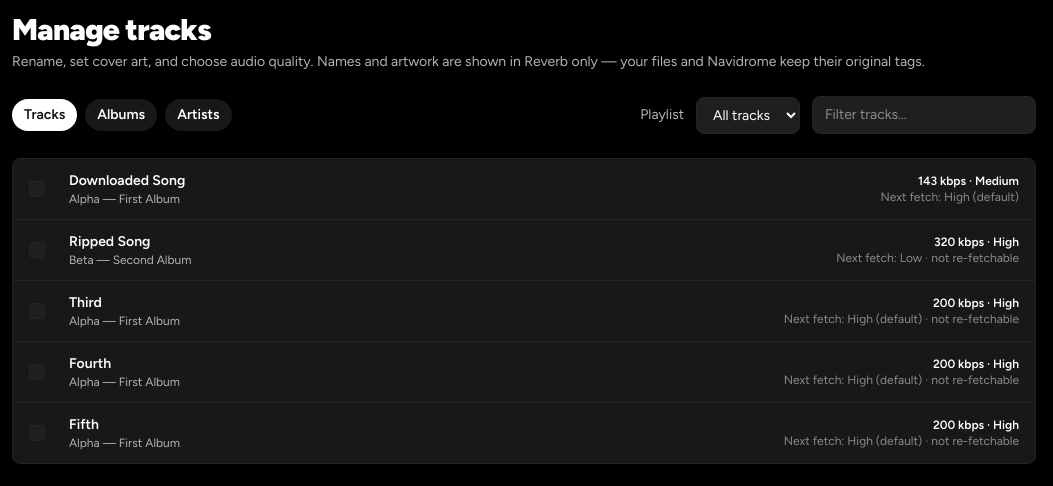
Test: ManageTracks › selection gestures › shift-clicking uses the order on screen, not the underlying list
In the search field labelled "Filter tracks": (924, 115) [812, 96, 1036, 134], type "f"
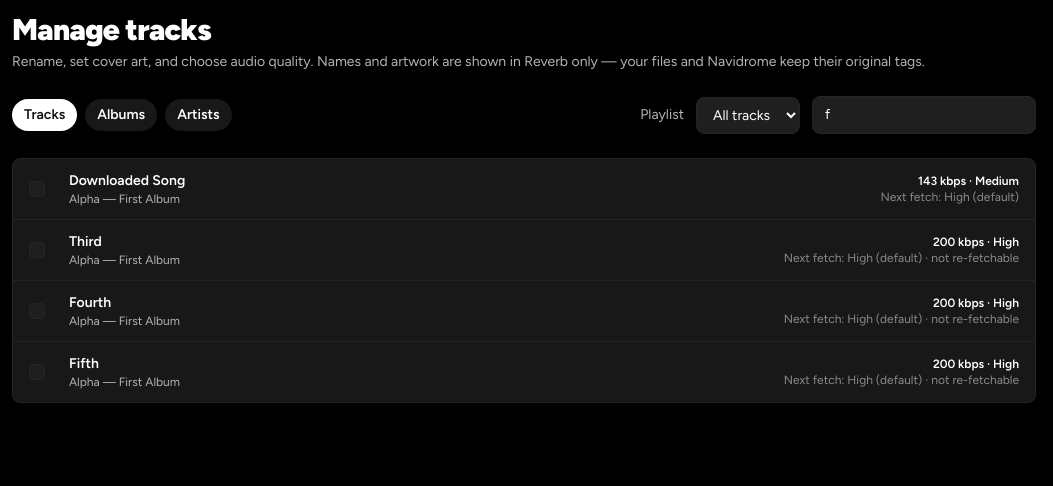
Press the mouse on the list item "Fourth": (524, 312) [13, 281, 1035, 342]
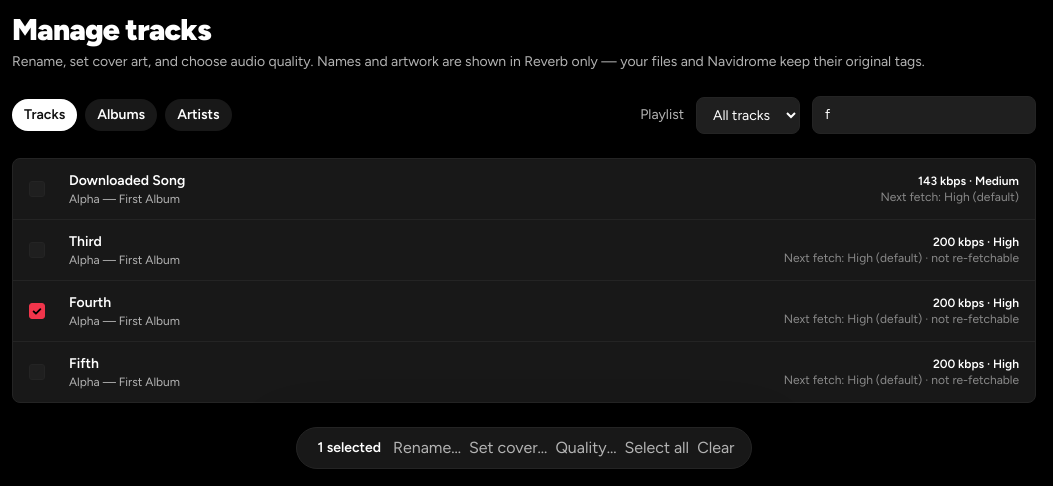
Click the list item "Fifth": (84, 382) [29, 355, 1019, 389]
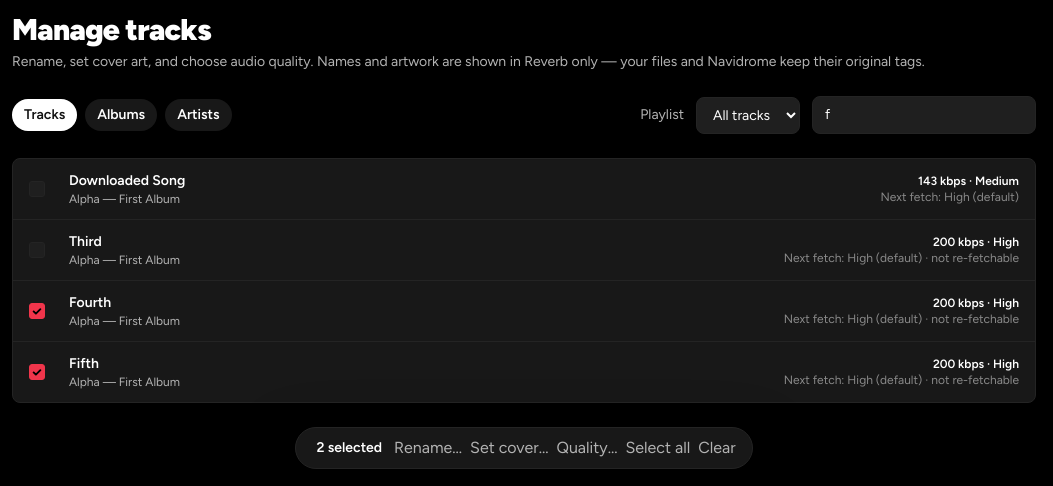
Now the text "2 selected" is shown, box [312, 438, 386, 458]
